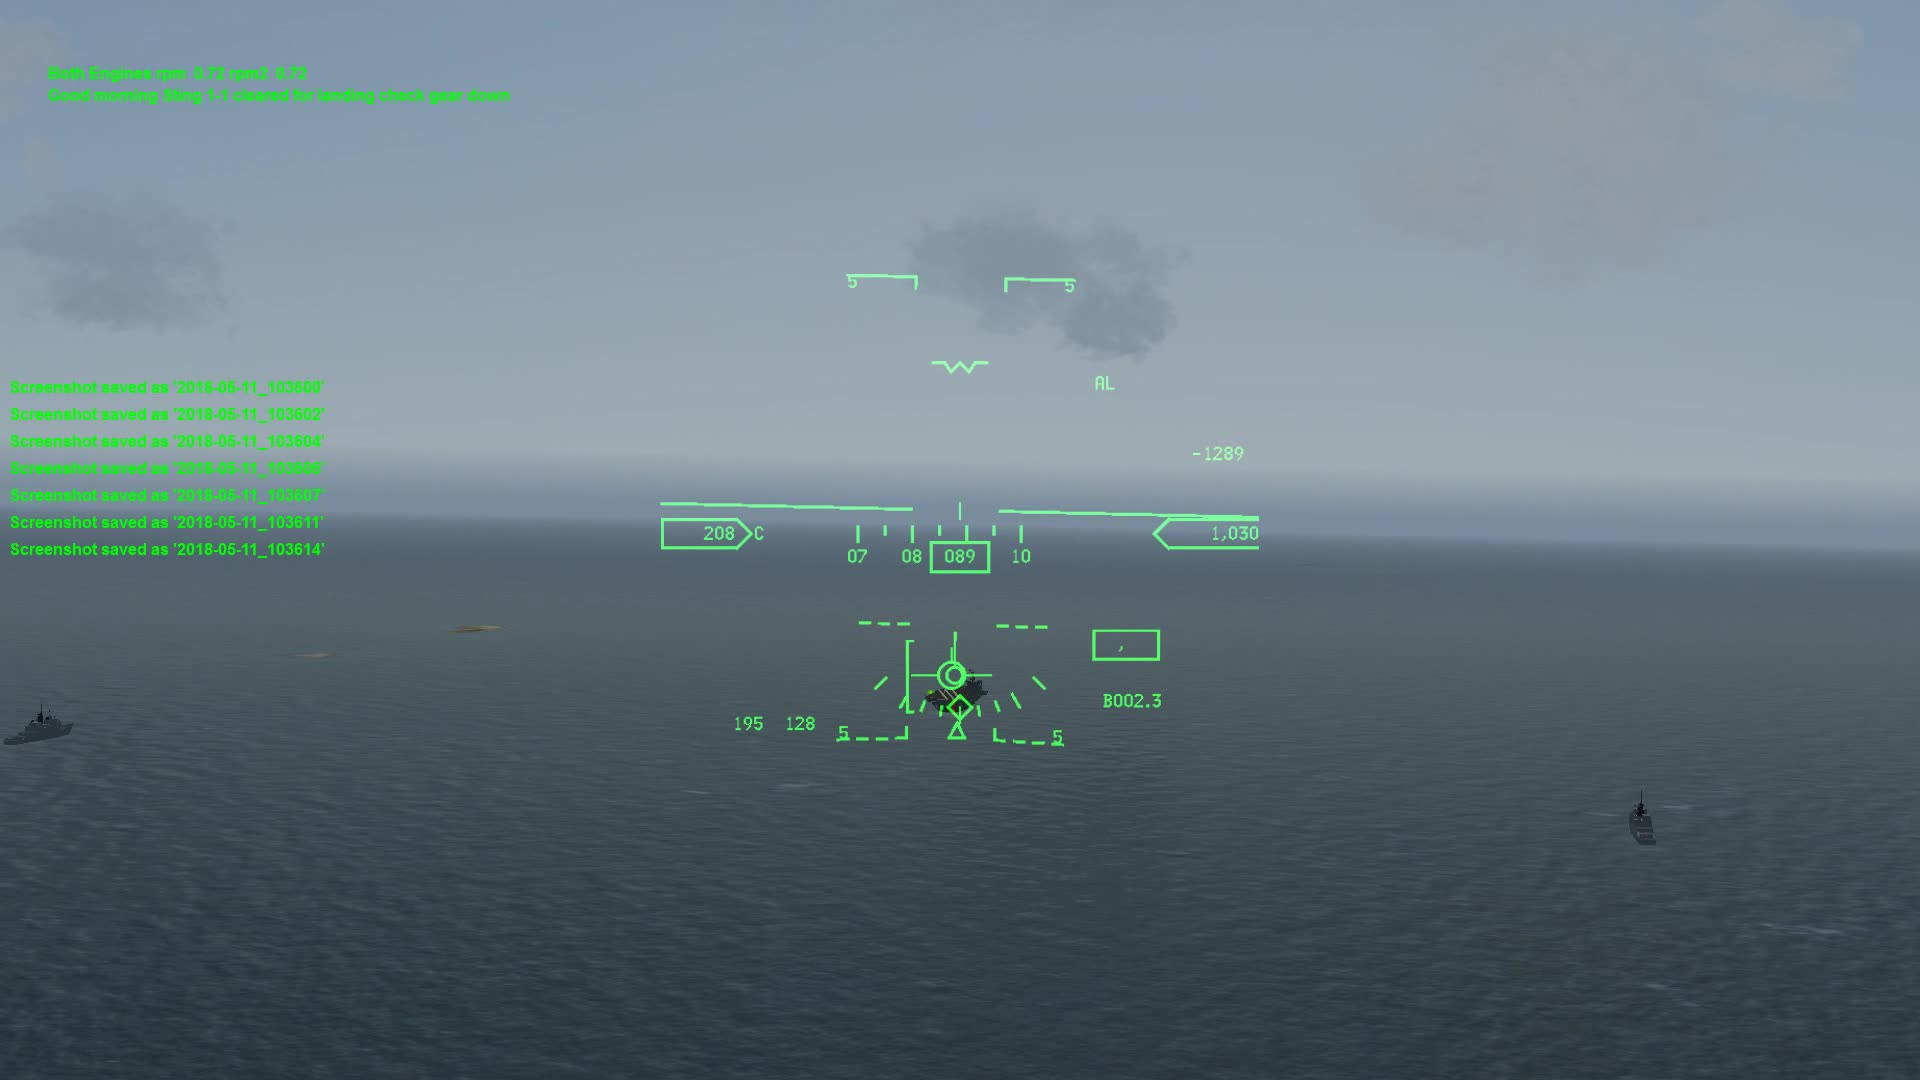speed vector: (923, 634, 986, 692)
